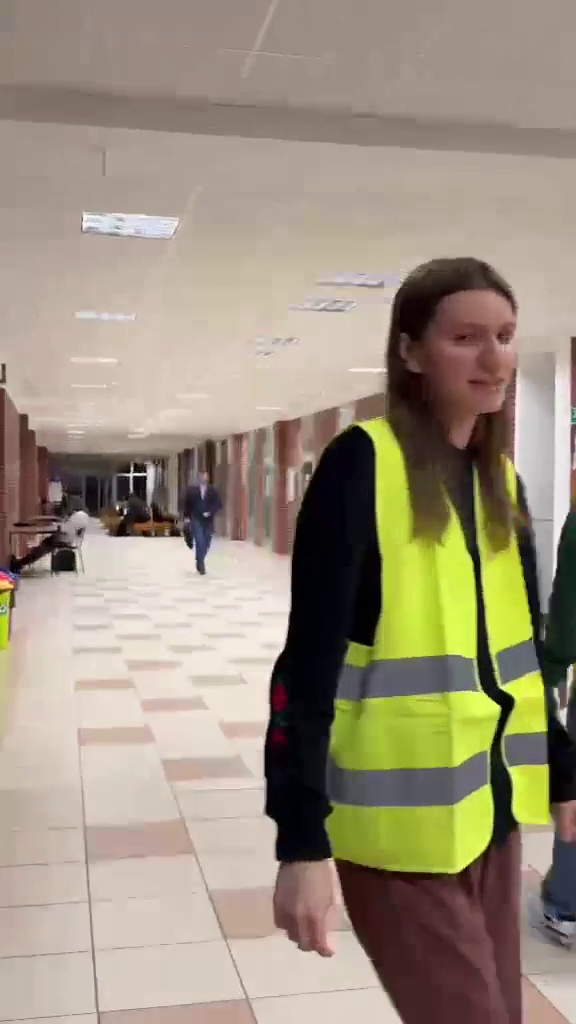no vest: (10, 504, 92, 570), (175, 468, 220, 570)
vest: (268, 254, 552, 1016)
